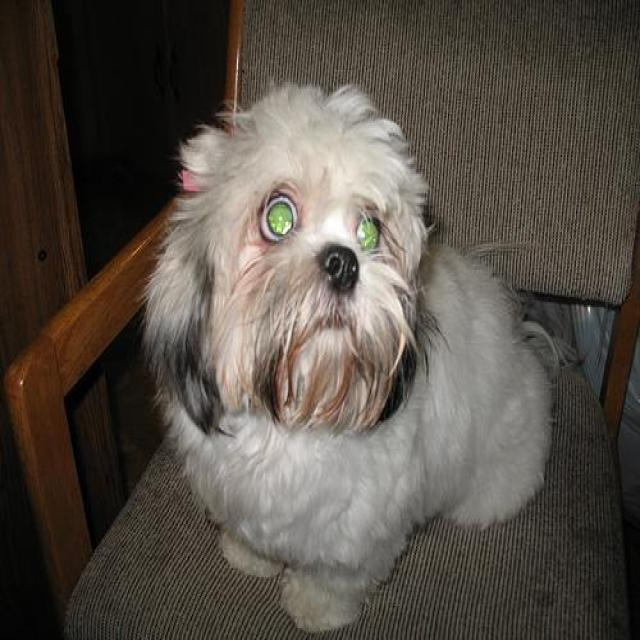shih_tzu: (140, 84, 560, 633)
